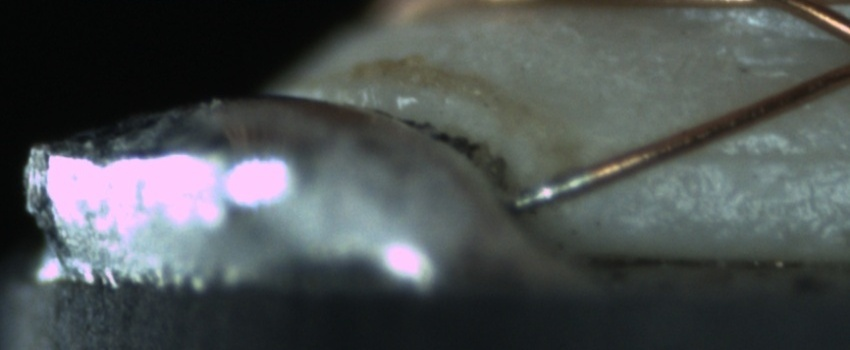DL: (673, 122, 848, 187)
TS: (509, 166, 587, 211)
